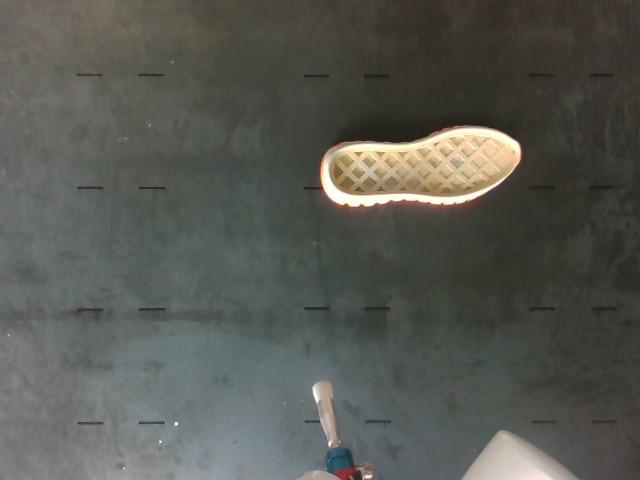shoes: (328, 128, 520, 197)
